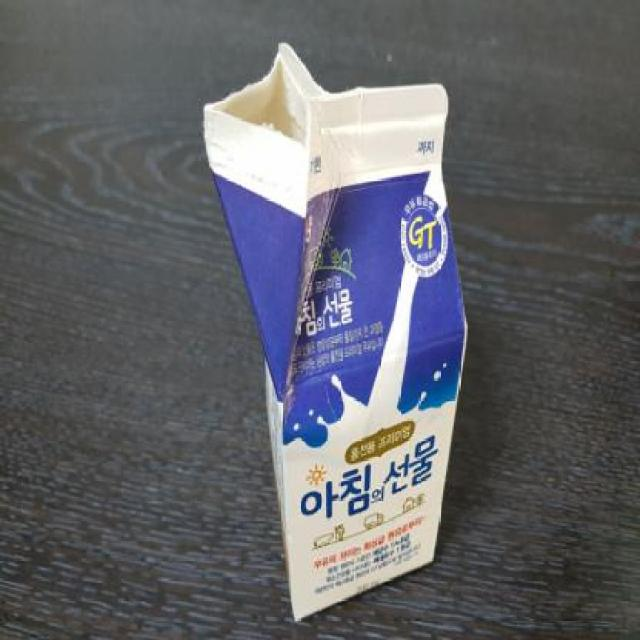non_white_jug: (202, 17, 476, 635)
